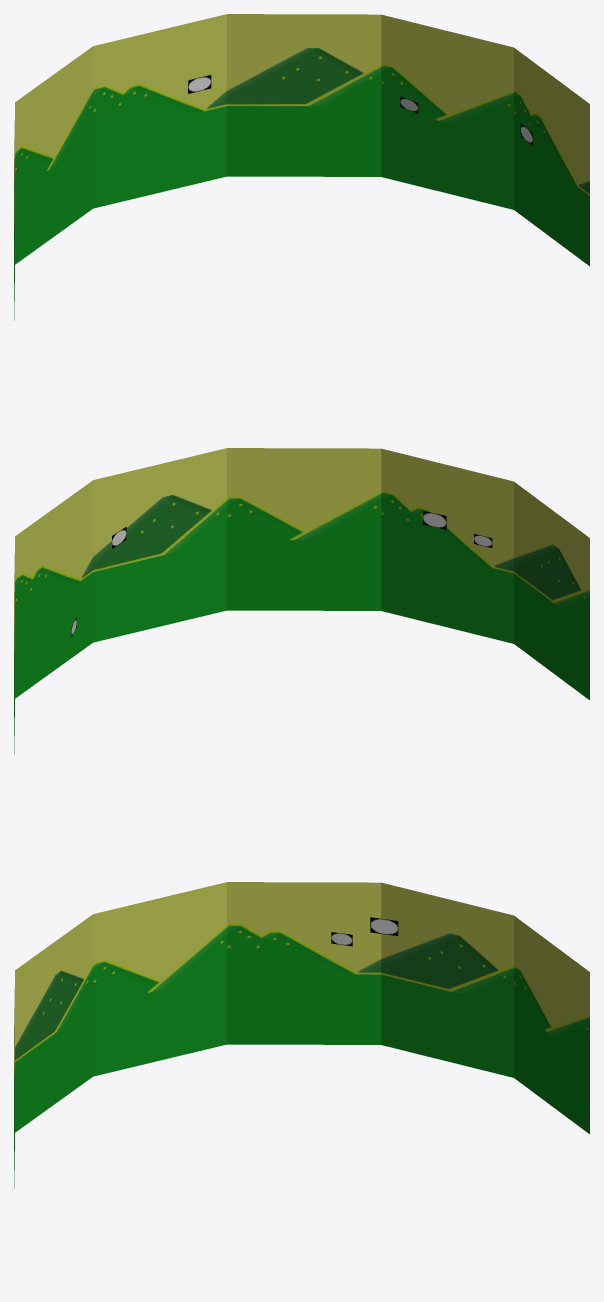
File: vrcorn.glb
3 renders of one model, top to bottom at view 1: azimuth 30°, elevation 25°; view 2: azimuth 150°, elevation 25°; view 3: azimuth 270°, elevation 25°, orthographic.
Visible parts, largest first — view 1: polygon0, polygon1; view 2: polygon0, polygon1; view 3: polygon0, polygon1.
Boxes of the visible parts, x1=… form: polygon0: x1=14, y1=14, x2=589, y2=320; polygon1: x1=188, y1=75, x2=532, y2=145; polygon0: x1=14, y1=448, x2=589, y2=754; polygon1: x1=71, y1=511, x2=492, y2=636; polygon0: x1=14, y1=882, x2=589, y2=1188; polygon1: x1=331, y1=917, x2=398, y2=946.
Size of the model in its own units: 714 by 243 by 714.
Materials: 2 (2 with a texture image).
